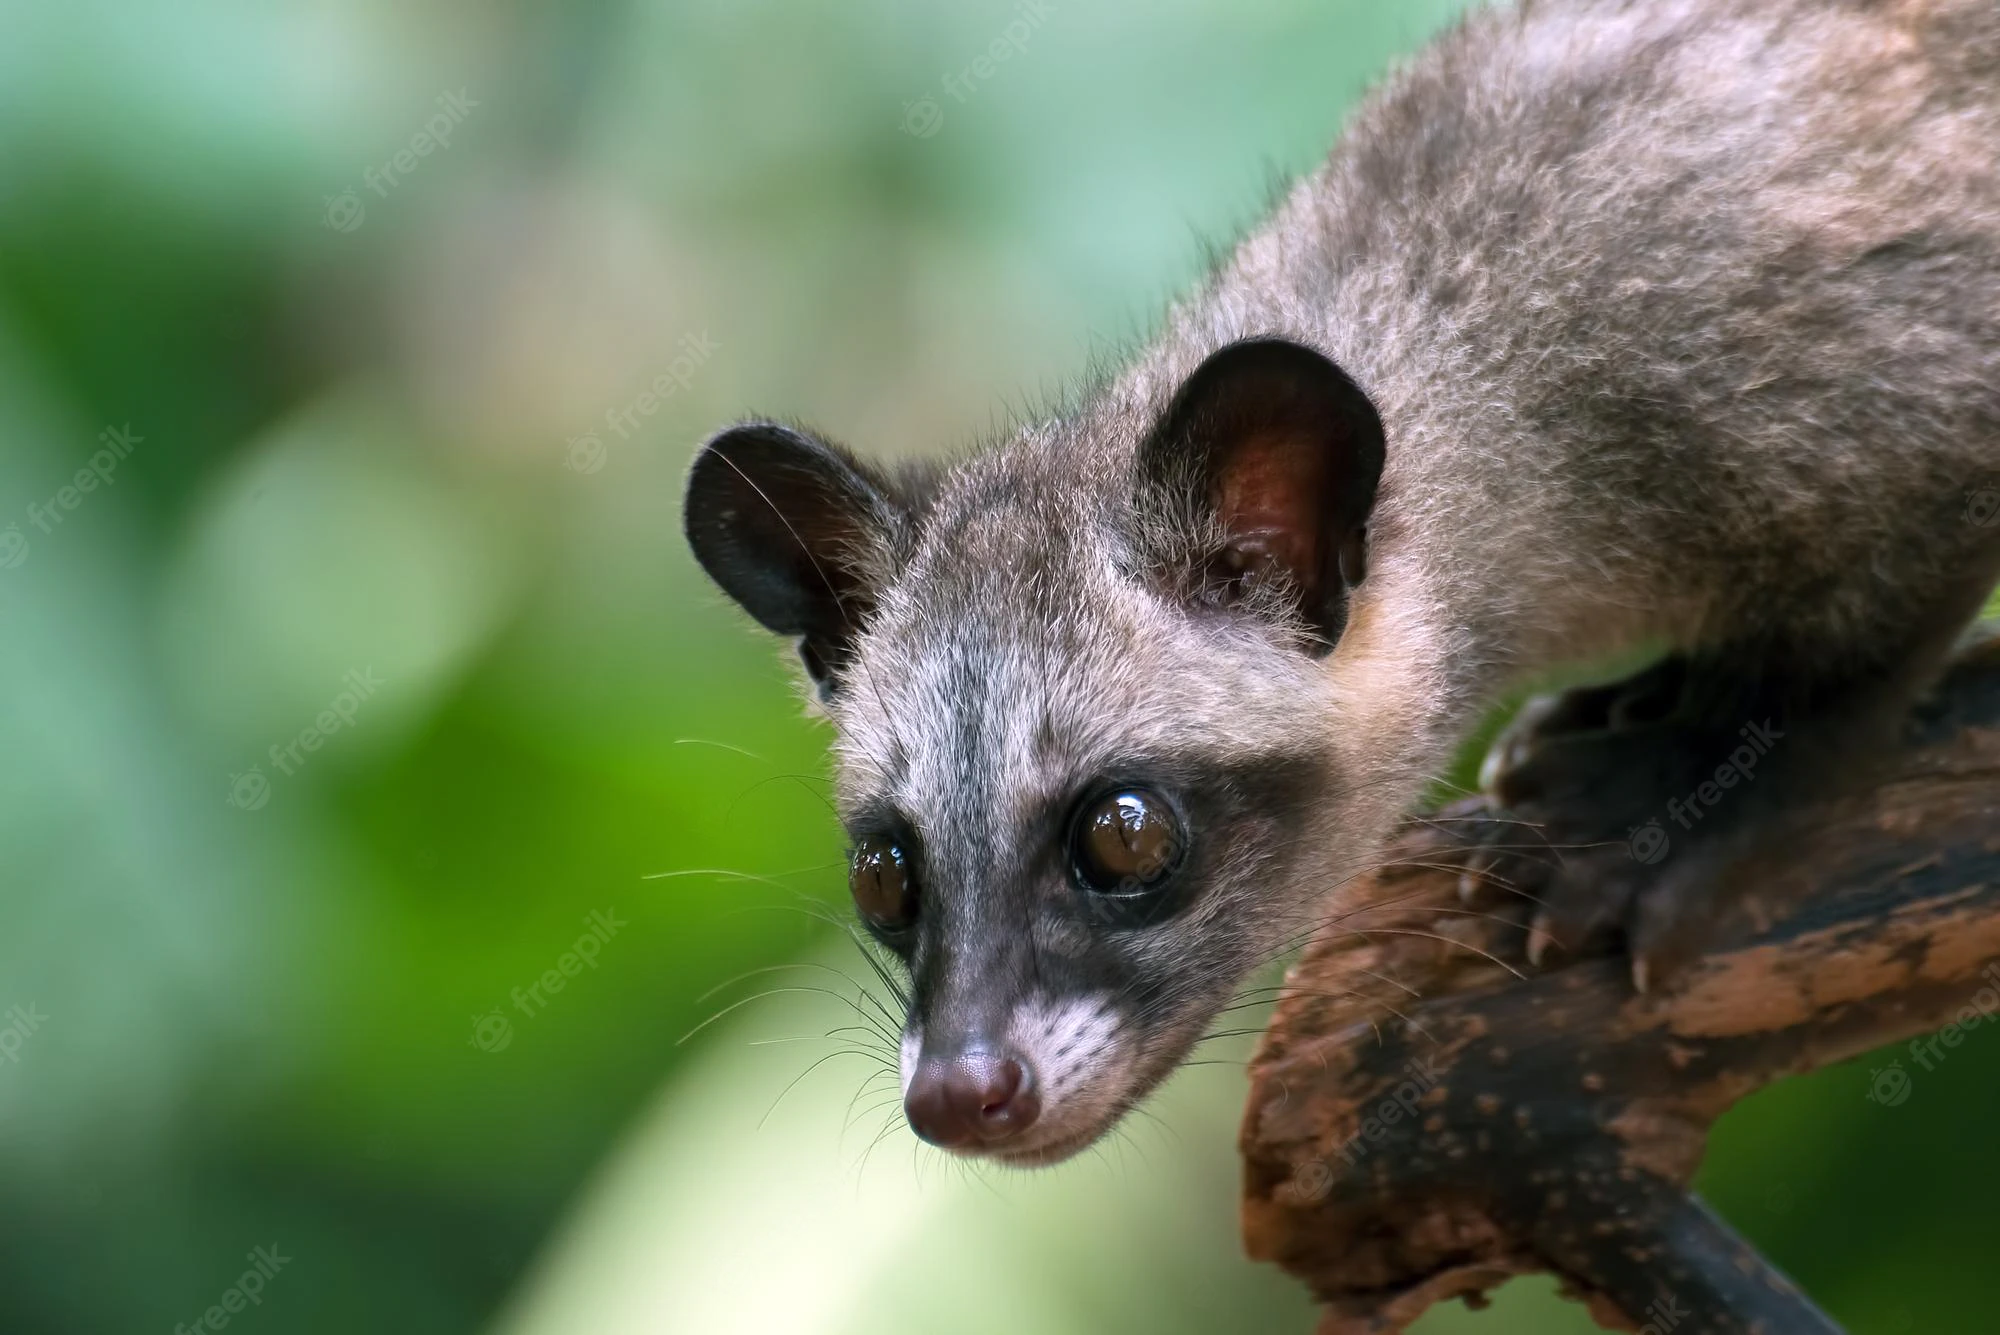Civet: (666, 1, 1887, 1208)
